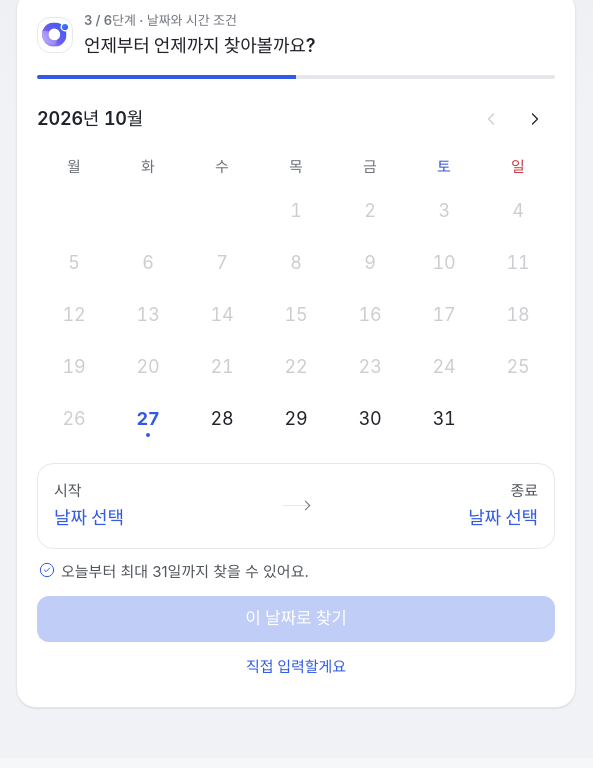
Test case: DateRangePicker › navigates to future months but not before the current month
The image size is (593, 768).
Expected: the button named "이전 달" is disabled, [471,99,511,139]
Step 1. Click the button named "다음 달" → (535, 119), box [515,99,555,139]
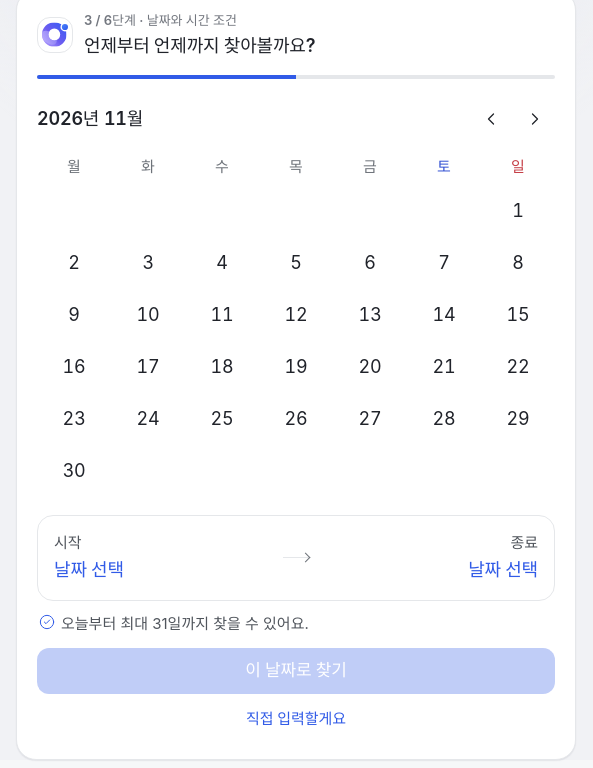
Expected: the button named "이전 달" is enabled, [471,99,511,139]
Now the text "2026년 11월" is shown, box [37,108,143,129]
